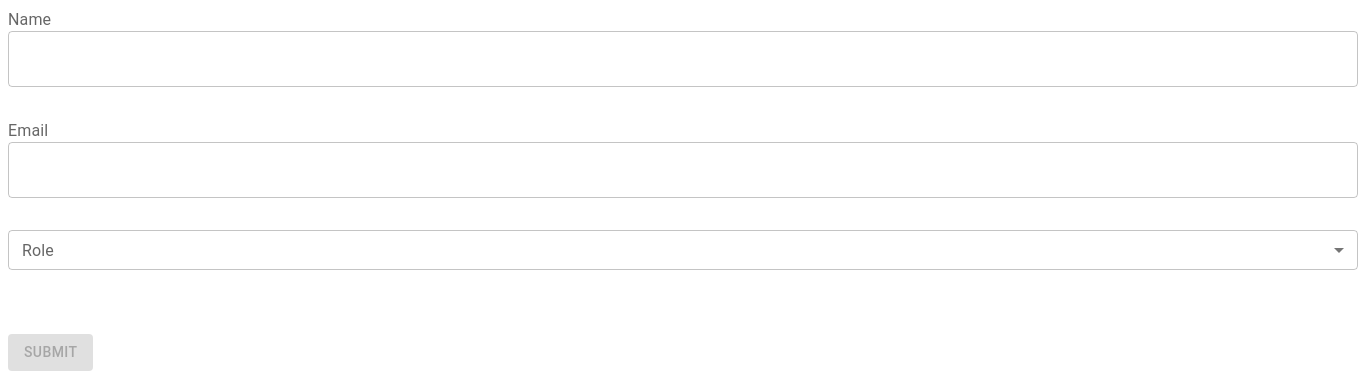
it: Form Components › DataEntryForm › should render select field with options
The image size is (1366, 388).
Check if options are available (this might need adjustment based on MUI select implementation)
Press the mouse on the dropdown with id "role" at [683, 250], box [8,230,1358,270]
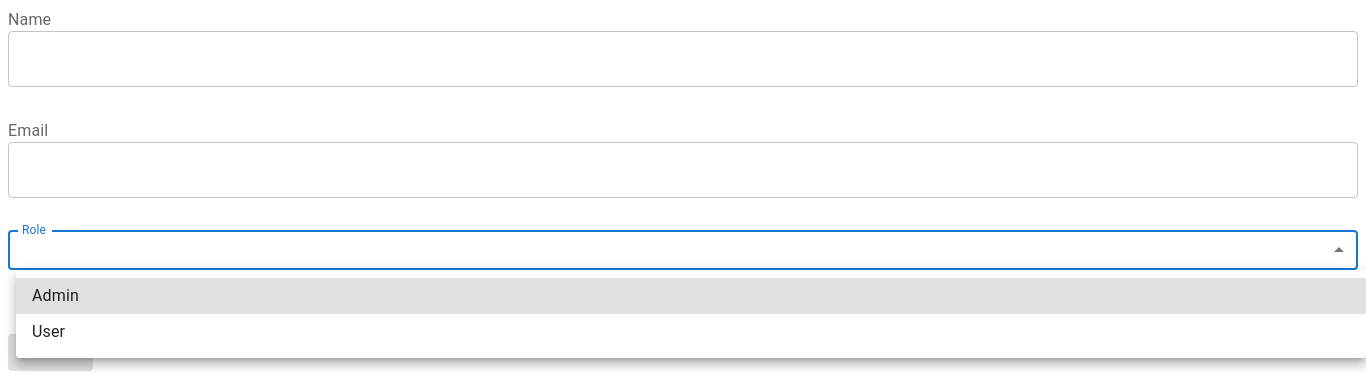
expect the option "Admin" is shown: met, box [16,278,1365,314]
expect the option "User" is shown: met, box [32,322,65,341]
